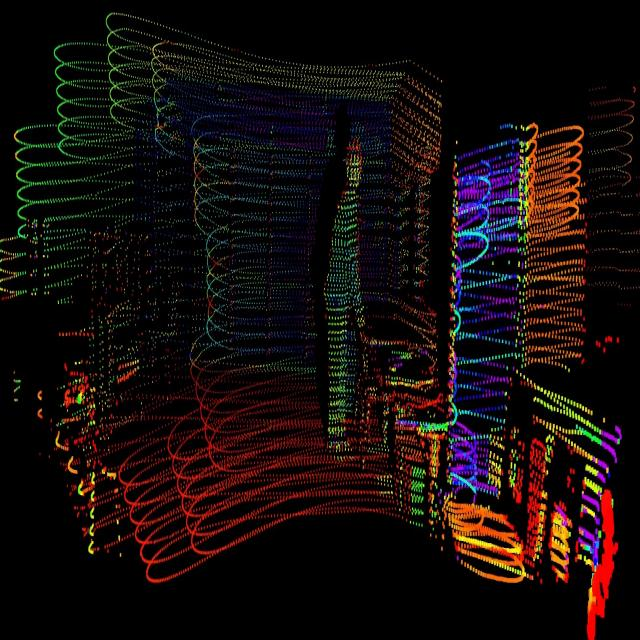human: (322, 123, 371, 474)
